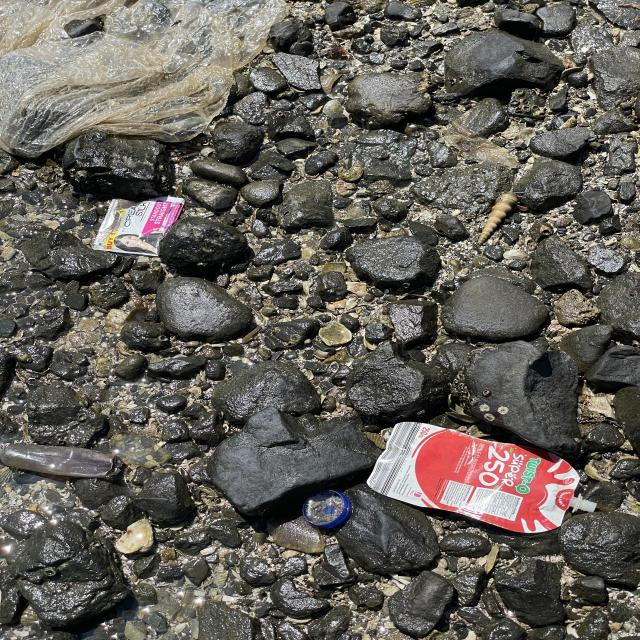plastic_waste: (364, 420, 576, 538), (91, 196, 191, 258), (300, 488, 352, 530)
